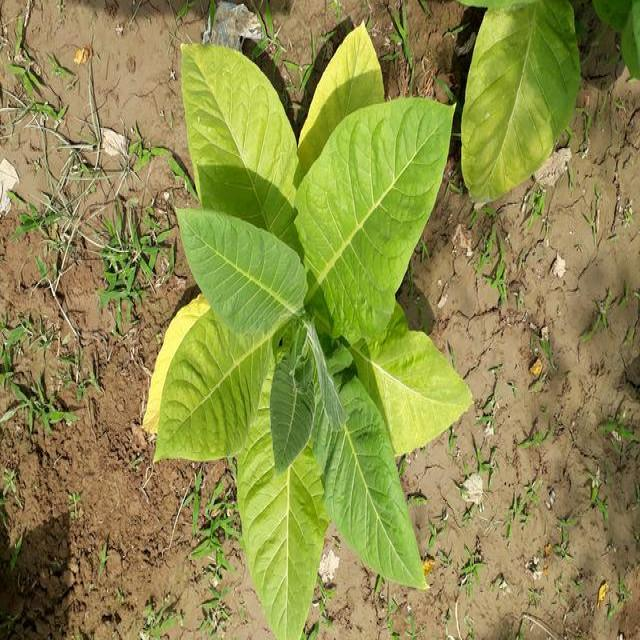crop: (153, 36, 464, 630), (464, 0, 584, 197)
